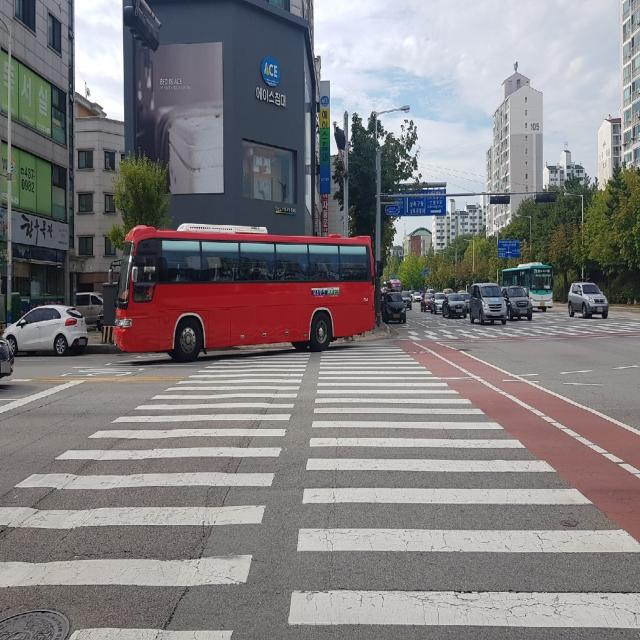횡단보도: (0, 337, 640, 640), (411, 330, 638, 336)
